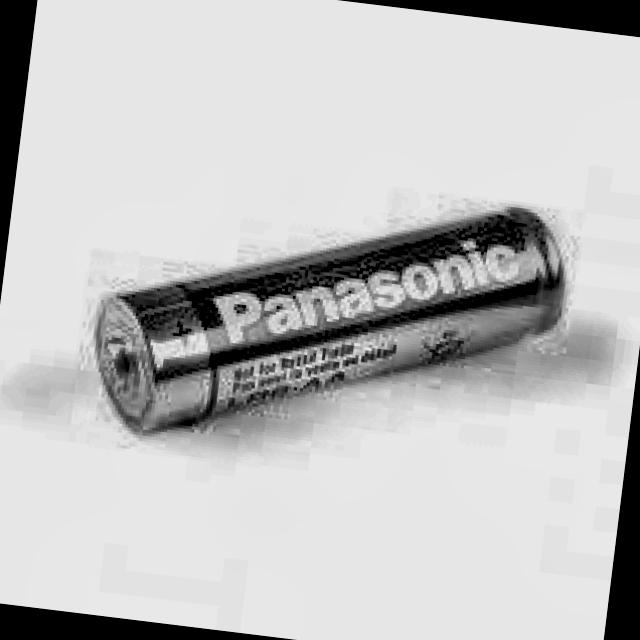Battery: (82, 161, 573, 478)
